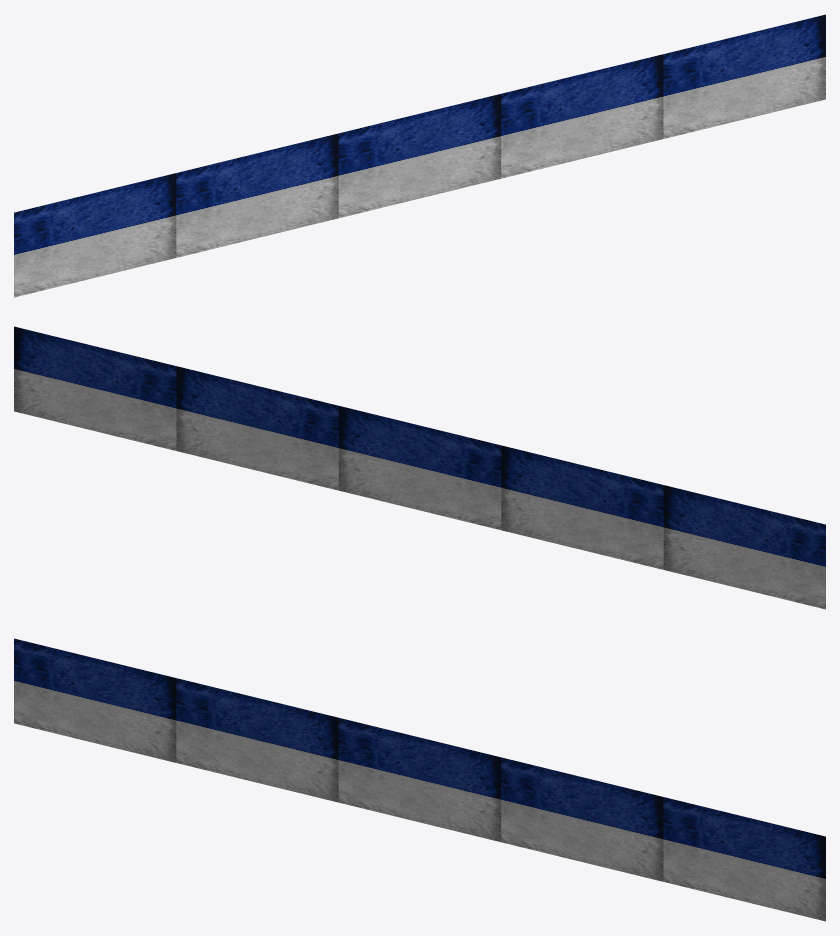
Rendered from barrier_plastic_navy_white_01_strip5.glb.
The picture shows the model from 3 angles, top to bottom: view 1: azimuth 30°, elevation 25°; view 2: azimuth 150°, elevation 25°; view 3: azimuth 330°, elevation 25°; orthographic projection.
Visible parts, largest first — view 1: barrier_plastic_navy_white_01_strip5; view 2: barrier_plastic_navy_white_01_strip5; view 3: barrier_plastic_navy_white_01_strip5.
Boxes of the visible parts, x1,y1,x2,y2 form: barrier_plastic_navy_white_01_strip5: [14, 14, 825, 297]; barrier_plastic_navy_white_01_strip5: [14, 326, 825, 609]; barrier_plastic_navy_white_01_strip5: [14, 638, 825, 921].
Size of the model in its own units: 10 by 1 by 0.
1 material, 1 textured.
